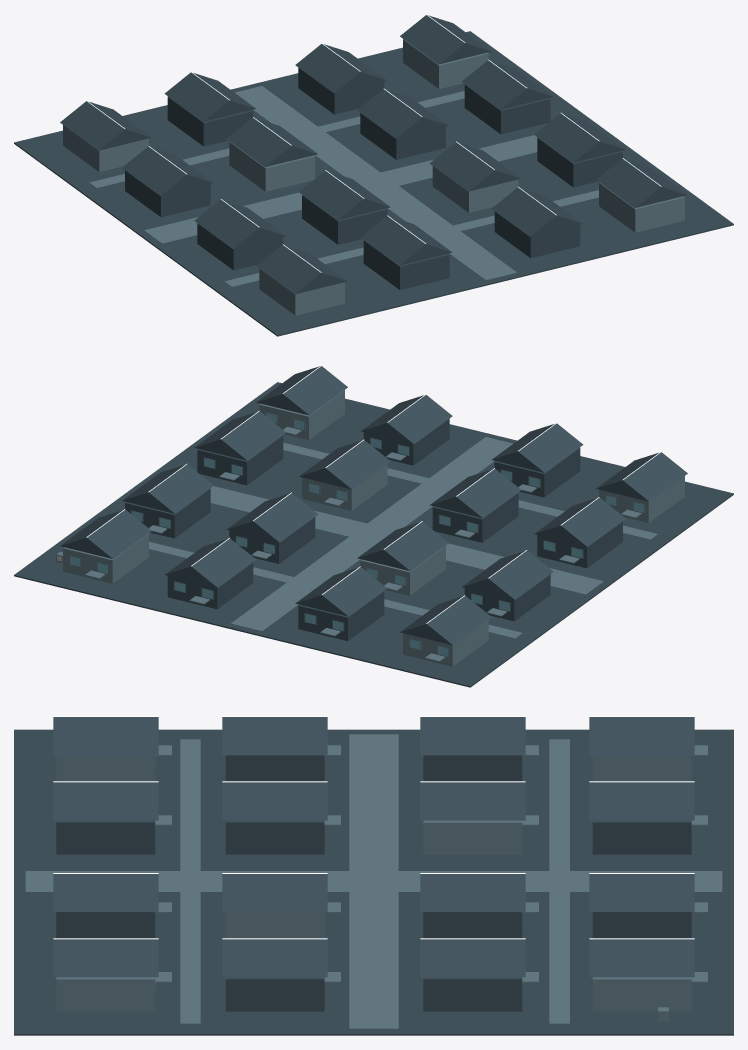
Rendered from residential_neighborhood.lod1.glb.
3 renders of one model, top to bottom at view 1: azimuth 30°, elevation 25°; view 2: azimuth 150°, elevation 25°; view 3: azimuth 270°, elevation 25°, orthographic. The views are drawn at different scales.
Visible parts, largest first — view 1: residential_neighborhood_graphite.001, residential_neighborhood_graphite_light.001, residential_neighborhood_white.001; view 2: residential_neighborhood_graphite.001, residential_neighborhood_graphite_light.001, residential_neighborhood_glass.001, residential_neighborhood_white.001; view 3: residential_neighborhood_graphite.001, residential_neighborhood_graphite_light.001, residential_neighborhood_white.001.
Boxes of the visible parts, x1,y1,x2,y2 form: residential_neighborhood_graphite.001: (14,15,733,336); residential_neighborhood_graphite_light.001: (63,39,684,315); residential_neighborhood_white.001: (86,14,661,272); residential_neighborhood_graphite.001: (14,366,733,687); residential_neighborhood_graphite_light.001: (56,390,684,666); residential_neighborhood_glass.001: (70,413,643,655); residential_neighborhood_white.001: (86,365,661,623); residential_neighborhood_graphite.001: (14,717,733,1035); residential_neighborhood_graphite_light.001: (25,734,722,1028); residential_neighborhood_white.001: (53,716,694,939).
Bounding box in the file's own units: 175 × 15.64 × 175.
